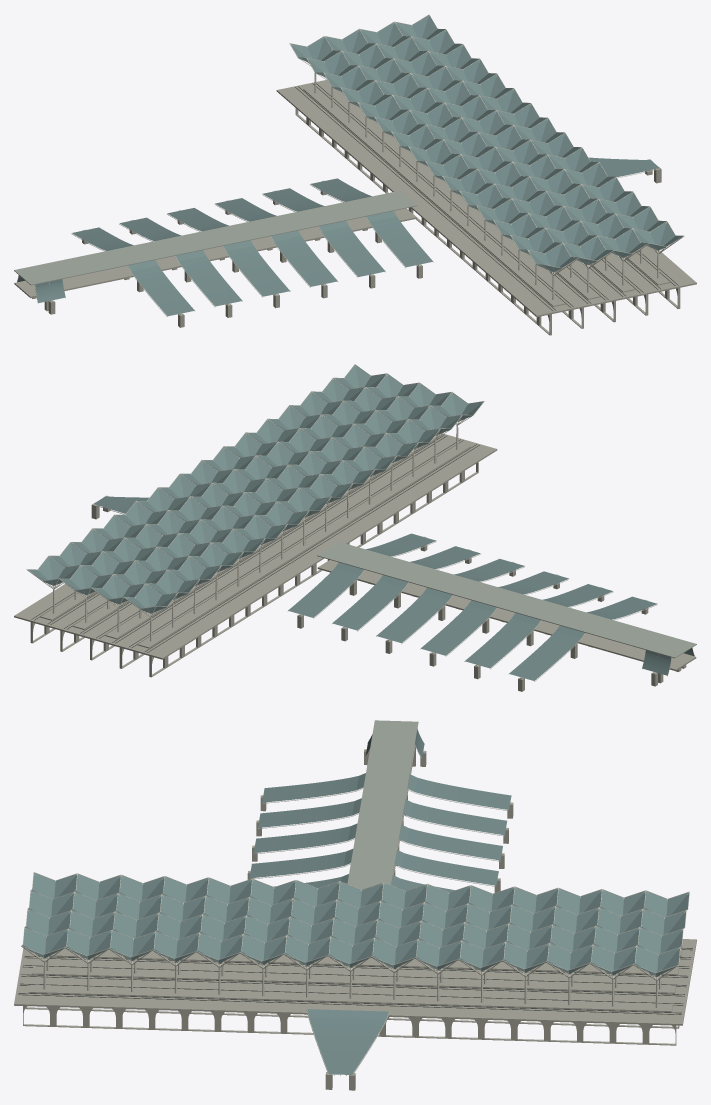
File: gare-oriente-near.glb
3 renders of one model, top to bottom at view 1: azimuth 30°, elevation 25°; view 2: azimuth 150°, elevation 25°; view 3: azimuth 270°, elevation 25°, orthographic. The views are drawn at different scales.
Parts seen in each view (by area): view 1: gare-oriente-0-glass, gare-oriente-0-concrete, gare-oriente-0-roof, gare-oriente-0-steel, gare-oriente-0-track, gare-oriente-0-column; view 2: gare-oriente-0-glass, gare-oriente-0-concrete, gare-oriente-0-roof, gare-oriente-0-steel, gare-oriente-0-track, gare-oriente-0-column; view 3: gare-oriente-0-glass, gare-oriente-0-concrete, gare-oriente-0-steel, gare-oriente-0-roof, gare-oriente-0-track, gare-oriente-0-column.
Boxes of the visible parts, x1=… form: gare-oriente-0-glass: x1=17, y1=15, x2=682, y2=316; gare-oriente-0-concrete: x1=14, y1=80, x2=696, y2=335; gare-oriente-0-roof: x1=14, y1=190, x2=417, y2=285; gare-oriente-0-steel: x1=17, y1=14, x2=684, y2=316; gare-oriente-0-track: x1=295, y1=83, x2=678, y2=310; gare-oriente-0-column: x1=314, y1=73, x2=659, y2=299; gare-oriente-0-glass: x1=28, y1=365, x2=694, y2=680; gare-oriente-0-concrete: x1=14, y1=433, x2=696, y2=691; gare-oriente-0-roof: x1=317, y1=542, x2=696, y2=658; gare-oriente-0-steel: x1=26, y1=364, x2=694, y2=681; gare-oriente-0-track: x1=31, y1=435, x2=479, y2=652; gare-oriente-0-column: x1=52, y1=425, x2=458, y2=641; gare-oriente-0-glass: x1=22, y1=729, x2=689, y2=1074; gare-oriente-0-concrete: x1=14, y1=745, x2=696, y2=1090; gare-oriente-0-steel: x1=21, y1=743, x2=689, y2=1075; gare-oriente-0-roof: x1=347, y1=720, x2=418, y2=889; gare-oriente-0-track: x1=18, y1=947, x2=692, y2=1014; gare-oriente-0-column: x1=43, y1=957, x2=661, y2=1007.
Bounding box in the file's own units: 308 × 35.14 × 265.
